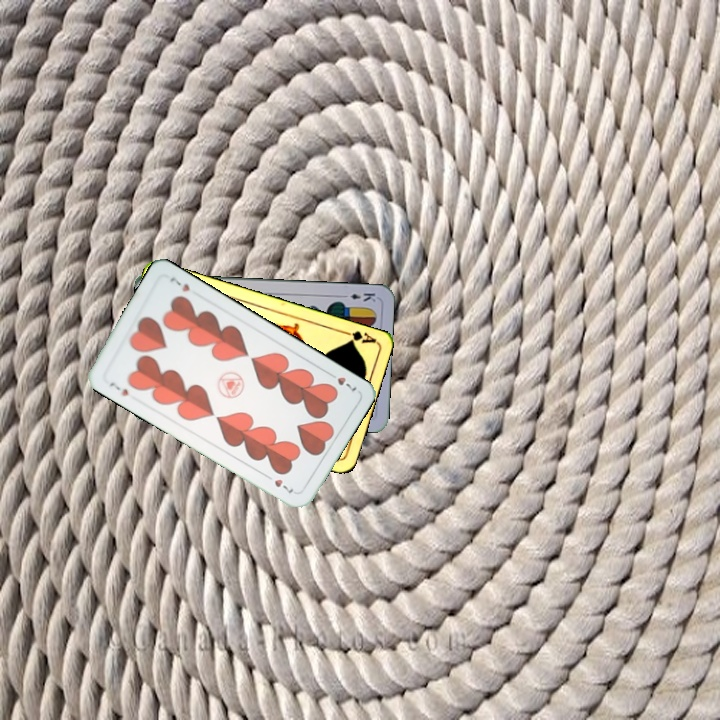EK: (338, 289, 378, 304)
GA: (337, 327, 378, 346)
H7: (324, 368, 359, 394), (105, 377, 131, 399)
